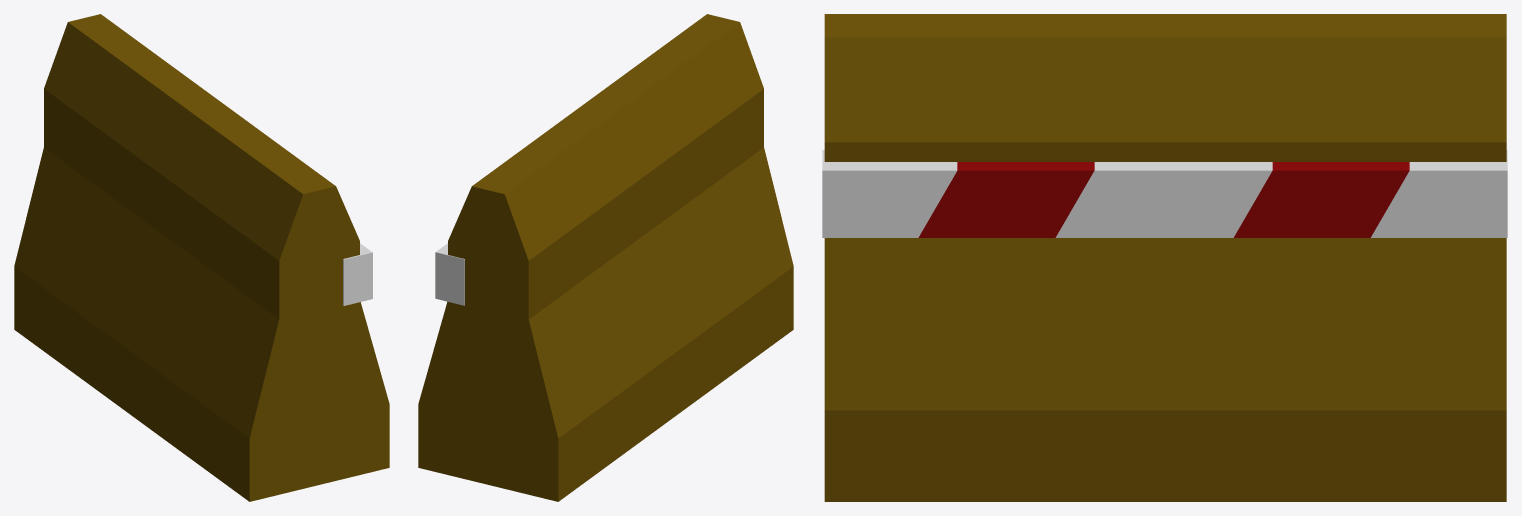
Rendered from Barrier.fbx.
3 renders of one model, left to right at view 1: azimuth 30°, elevation 25°; view 2: azimuth 150°, elevation 25°; view 3: azimuth 270°, elevation 25°, orthographic. The views are drawn at different scales.
Visible parts, largest first — view 1: Cube.2312, Cube.2313; view 2: Cube.2312, Cube.2313; view 3: Cube.2312, Cube.2313, Cube.2314.
Part boxes in pixels (x1,y1,x2,y2): Cube.2312: (14, 14, 389, 501); Cube.2313: (343, 243, 372, 305); Cube.2312: (418, 14, 793, 501); Cube.2313: (435, 243, 464, 305); Cube.2312: (824, 14, 1506, 501); Cube.2313: (822, 150, 1507, 237); Cube.2314: (918, 162, 1409, 237).
Size of the model in its own units: 200 by 402 by 585.
